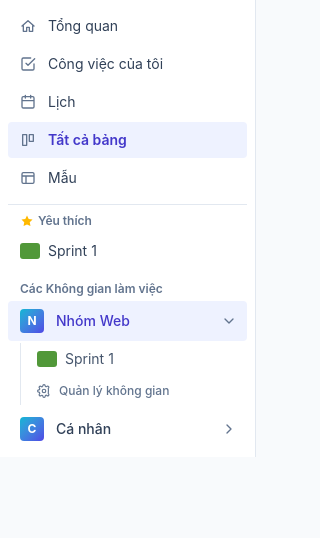
Test: Sidebar - cây không gian làm việc › trình duyệt chặn lưu trữ vẫn dùng được
The image size is (320, 538).
Click the button named "Mở rộng Cá nhân".
click(229, 429)  # box 215,415 -> 243,443
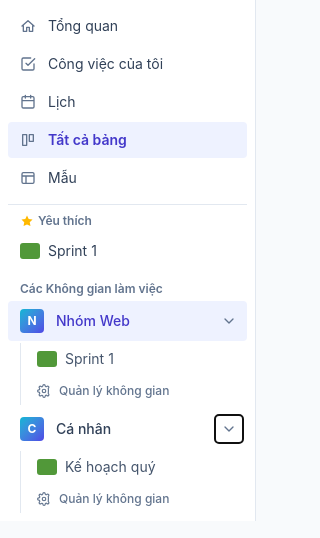
Now the button named "Thu gọn Cá nhân" is shown, box 215,415 -> 243,443
